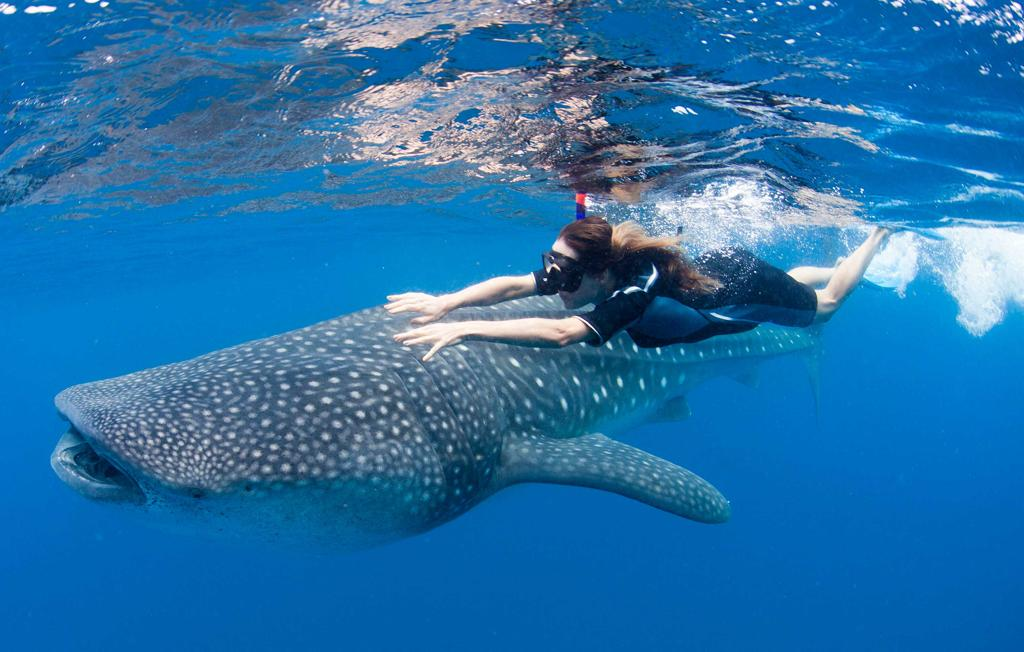face: (552, 246, 597, 309)
